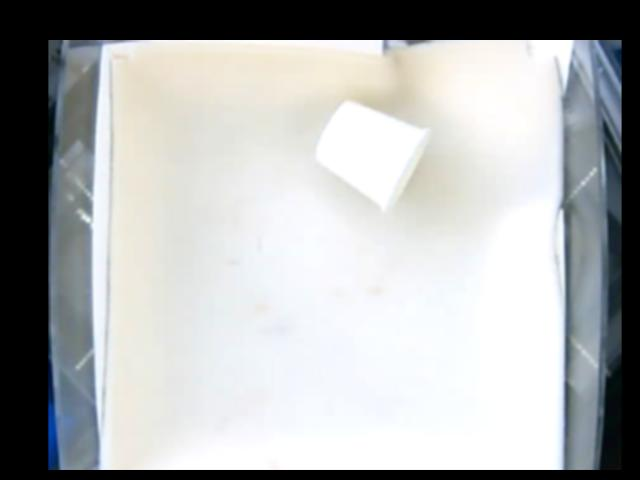Cup: (312, 99, 428, 212)
